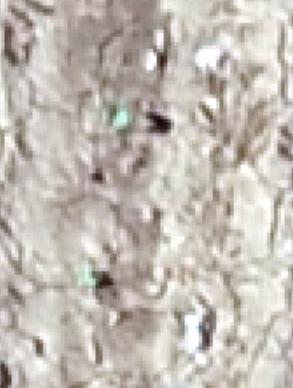cotton: (107, 108, 130, 130), (83, 268, 95, 286)
